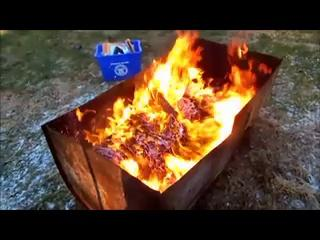fire: (99, 31, 264, 194)
